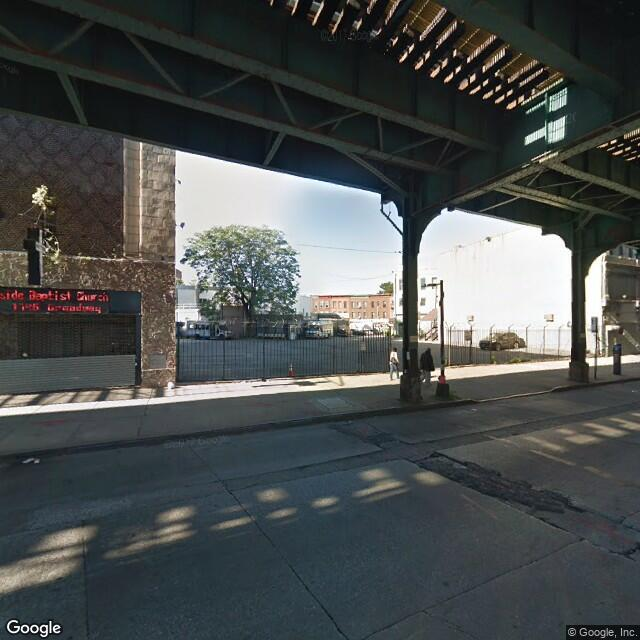litter: (22, 452, 44, 469), (436, 372, 454, 383)
